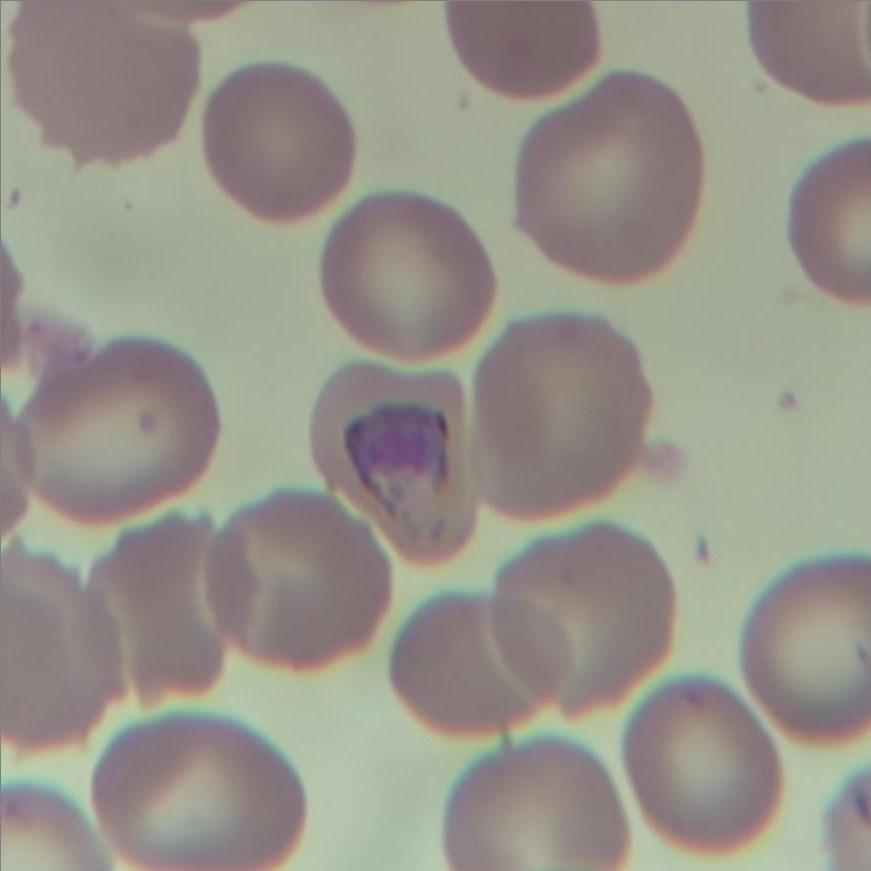Infected: (313, 359, 484, 565)
Uninfected: (513, 69, 702, 282), (13, 332, 221, 523), (467, 314, 650, 520), (78, 512, 258, 708), (492, 529, 678, 715), (202, 489, 389, 669), (93, 719, 305, 871), (8, 0, 200, 160), (618, 677, 785, 852), (320, 194, 494, 356), (388, 594, 576, 736), (737, 557, 871, 748), (0, 539, 118, 744), (205, 60, 354, 220), (445, 742, 626, 871), (443, 0, 601, 100)
